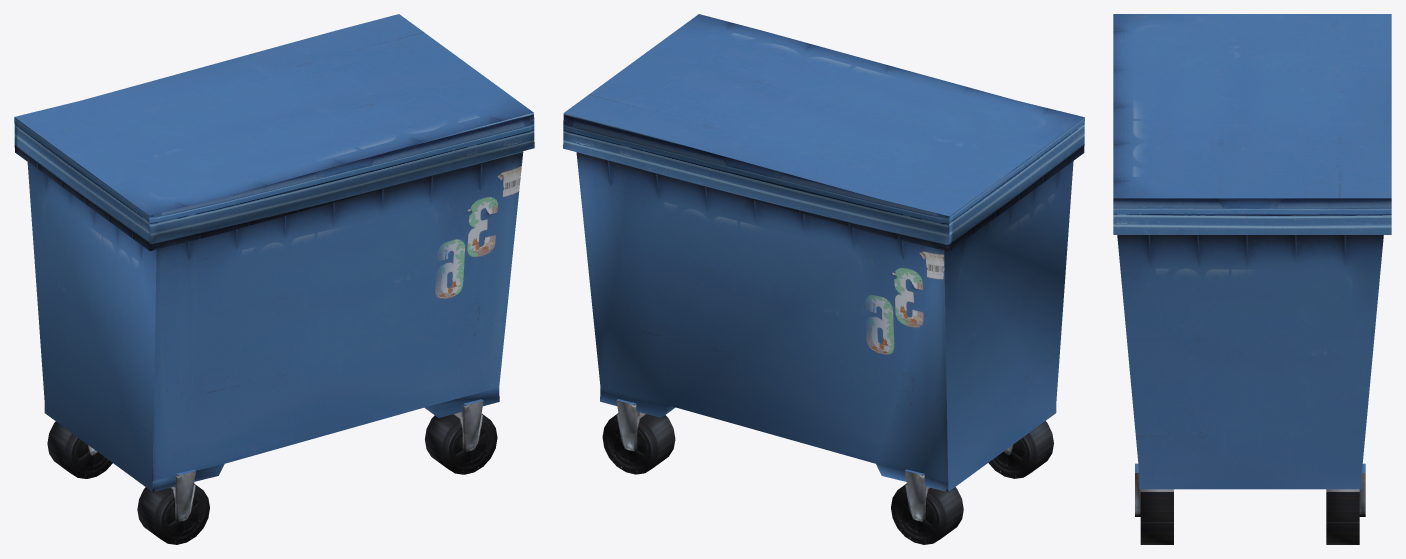
File: refugebin.obj
3 views of the same model, side by side, from view 1: azimuth 30°, elevation 25°; view 2: azimuth 150°, elevation 25°; view 3: azimuth 270°, elevation 25° (orthographic). The views are drawn at different scales.
Parts seen in each view (by area): view 1: def_surf_mat; view 2: def_surf_mat; view 3: def_surf_mat.
Part boxes in pixels (bbox=[...]): def_surf_mat: bbox=[14, 14, 534, 544]; def_surf_mat: bbox=[563, 14, 1084, 544]; def_surf_mat: bbox=[1113, 14, 1391, 544].
Bounding box in the file's own units: 51.06 × 45.35 × 30.98.
Materials: 1 (1 with a texture image).
